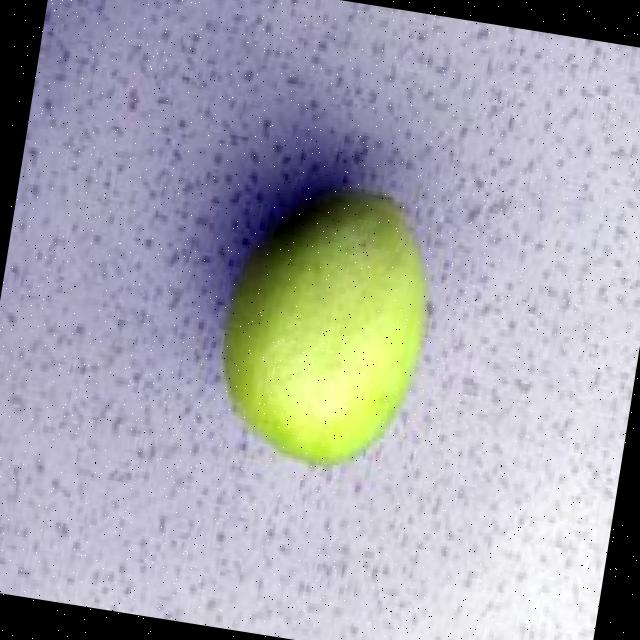lemon: (224, 195, 425, 465)
